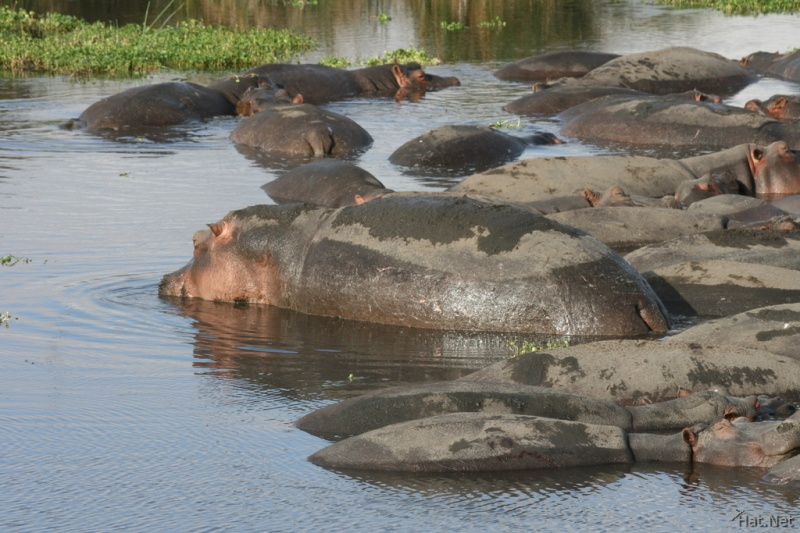hipopotamo: (158, 195, 680, 350), (308, 410, 800, 506), (231, 82, 378, 165), (246, 61, 464, 109)
